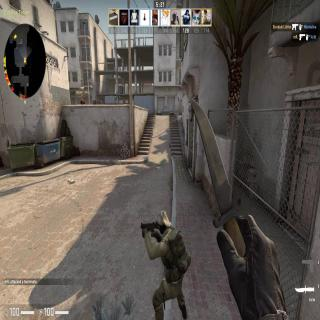CT-Body: (141, 208, 191, 308)
CT-Head: (156, 211, 170, 233)
